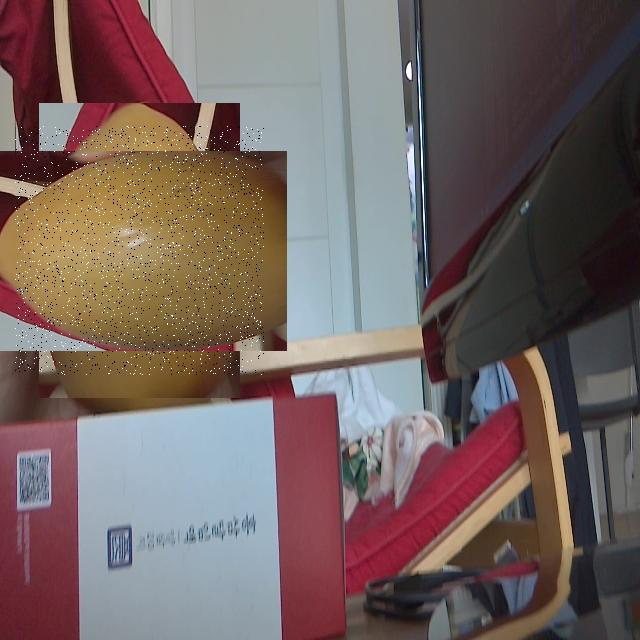pear: (15, 126, 264, 375)
